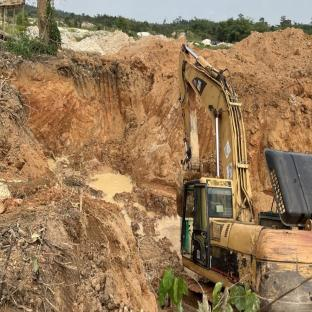ExcavationMachinery: (167, 41, 312, 312)
